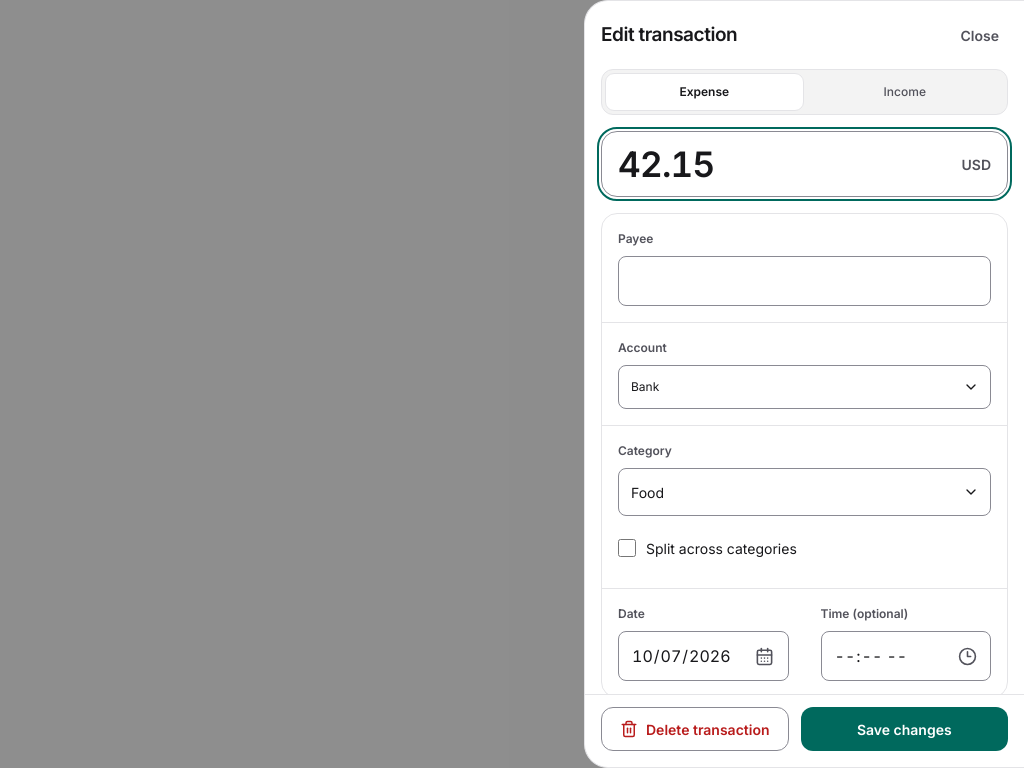
Test case: freezes the whole sheet, pill included, until a stale edit is reloaded
Click the button "Save changes": (904, 729) [800,707,1008,751]
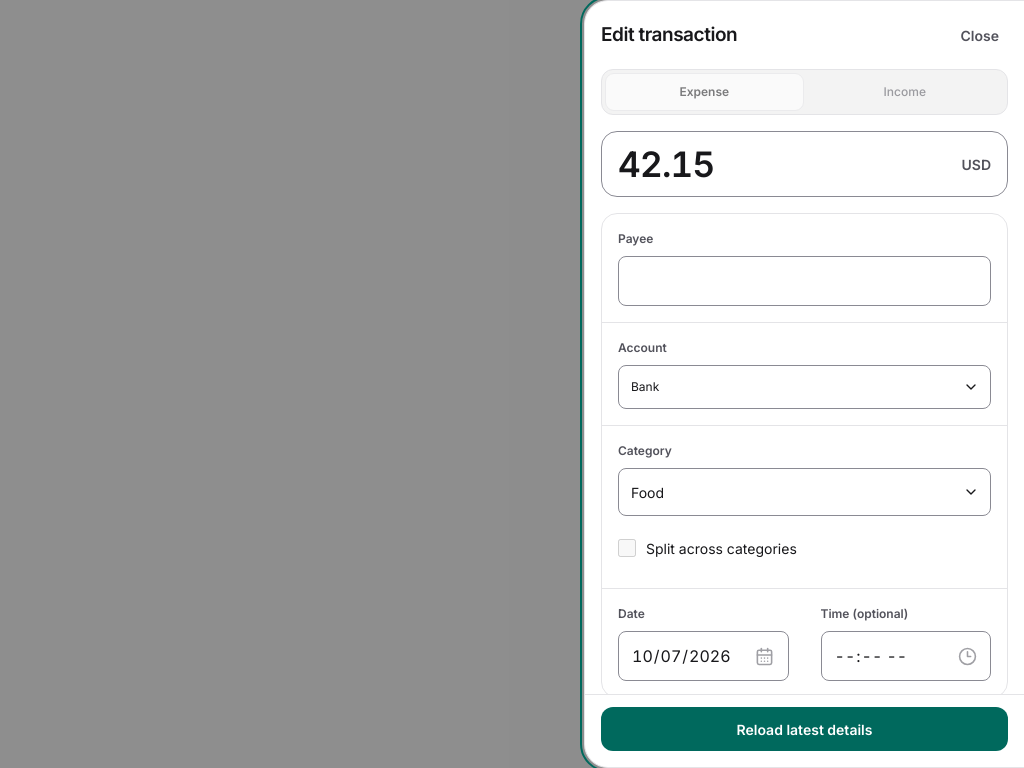
Check: the button "Reload latest details" is shown, box [601,707,1008,751]
Check: the radio button labelled "Expense" is disabled, box [605,73,804,111]
Check: the radio button labelled "Income" is disabled, box [806,73,1004,111]
